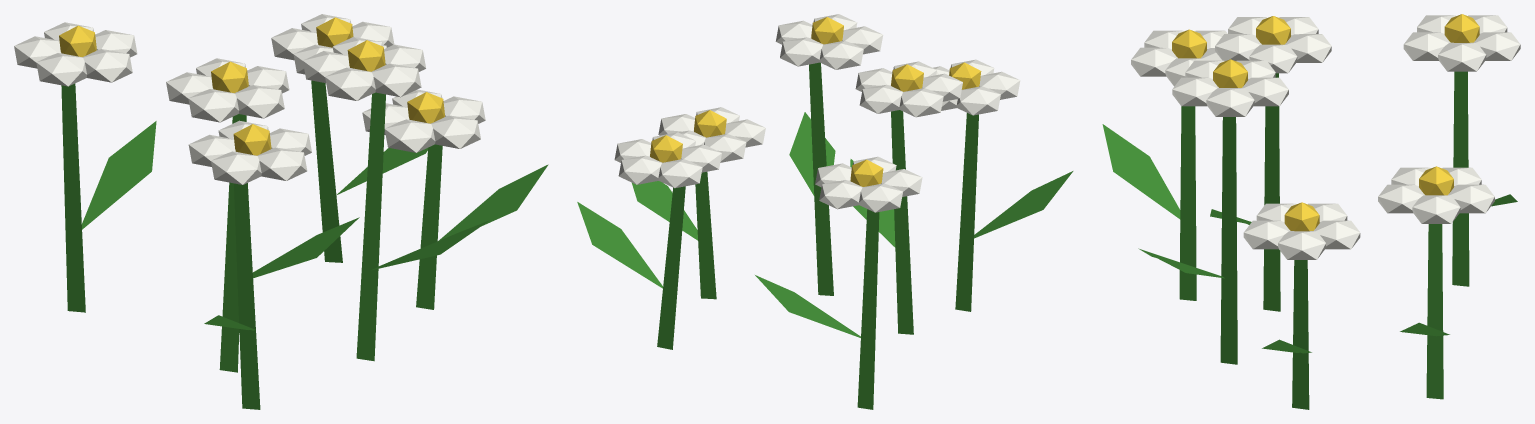
The model's file is flowers3.glb.
The picture shows the model from 3 angles, left to right: view 1: azimuth 30°, elevation 25°; view 2: azimuth 150°, elevation 25°; view 3: azimuth 270°, elevation 25°; orthographic projection. The views are drawn at different scales.
Visible parts, largest first — view 1: flowers3; view 2: flowers3; view 3: flowers3.
Boxes of the visible parts, <box> form: flowers3: <box>14,14,548,409</box>; flowers3: <box>577,14,1073,409</box>; flowers3: <box>1102,14,1520,409</box>.
Size of the model in its own units: 0.9048 by 0.6494 by 0.812.
